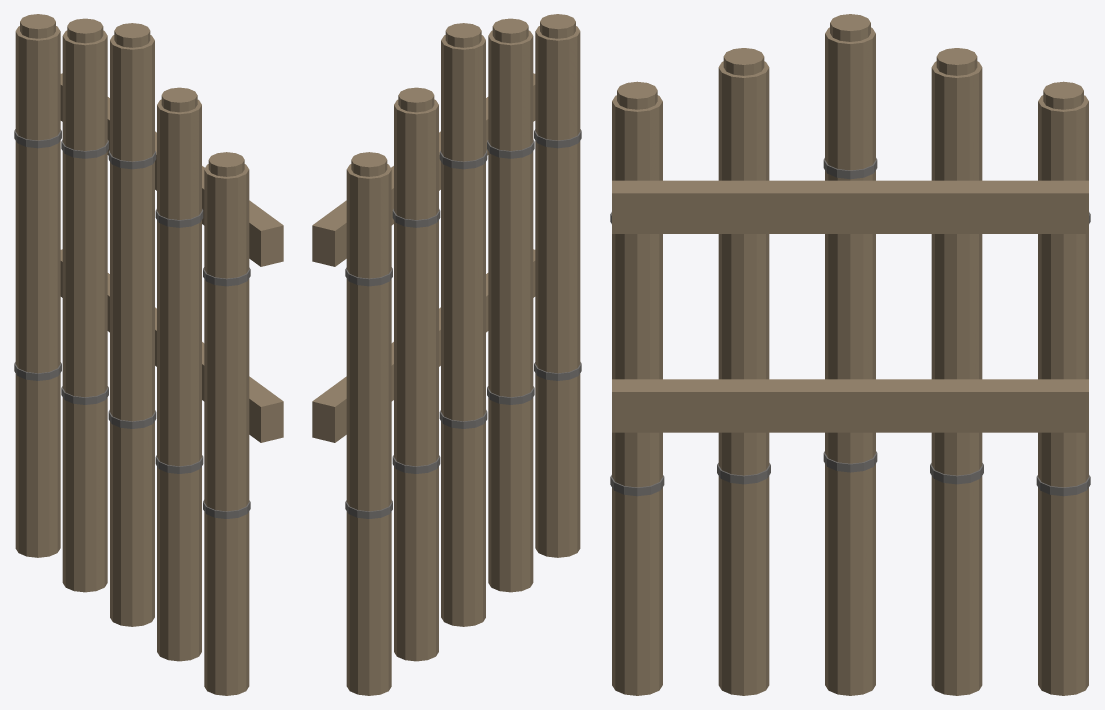
Rendered from dm_dockpileclustershort.glb.
The picture shows the model from 3 angles, left to right: view 1: azimuth 30°, elevation 25°; view 2: azimuth 150°, elevation 25°; view 3: azimuth 270°, elevation 25°; orthographic projection. The views are drawn at different scales.
Parts seen in each view (by area): view 1: dm_dockpileclustershort; view 2: dm_dockpileclustershort; view 3: dm_dockpileclustershort.
Boxes of the visible parts, x1,y1,x2,y2 form: dm_dockpileclustershort: [14, 14, 283, 695]; dm_dockpileclustershort: [312, 14, 581, 695]; dm_dockpileclustershort: [610, 14, 1090, 695].
Bounding box in the file's own units: 0.5802 × 4.89 × 3.21.
